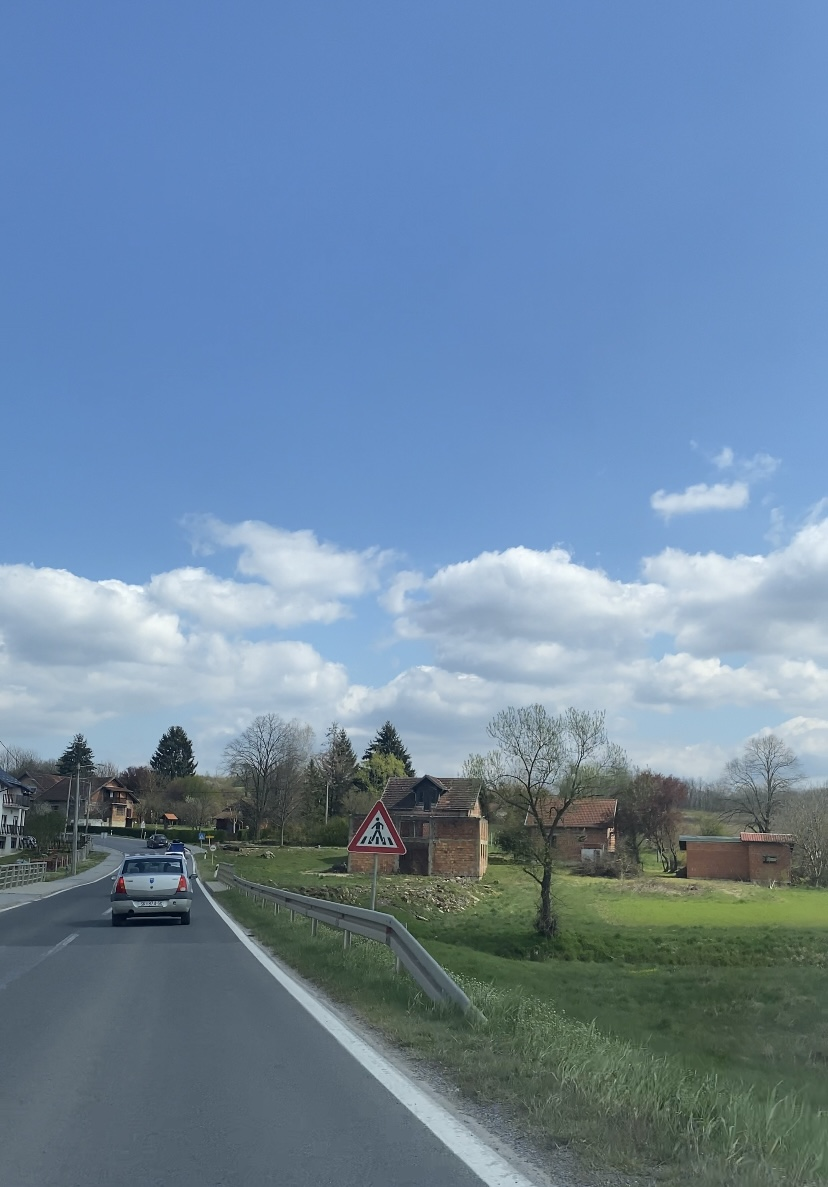Približavanje pješačkom prijelazu: (347, 800, 407, 854)
